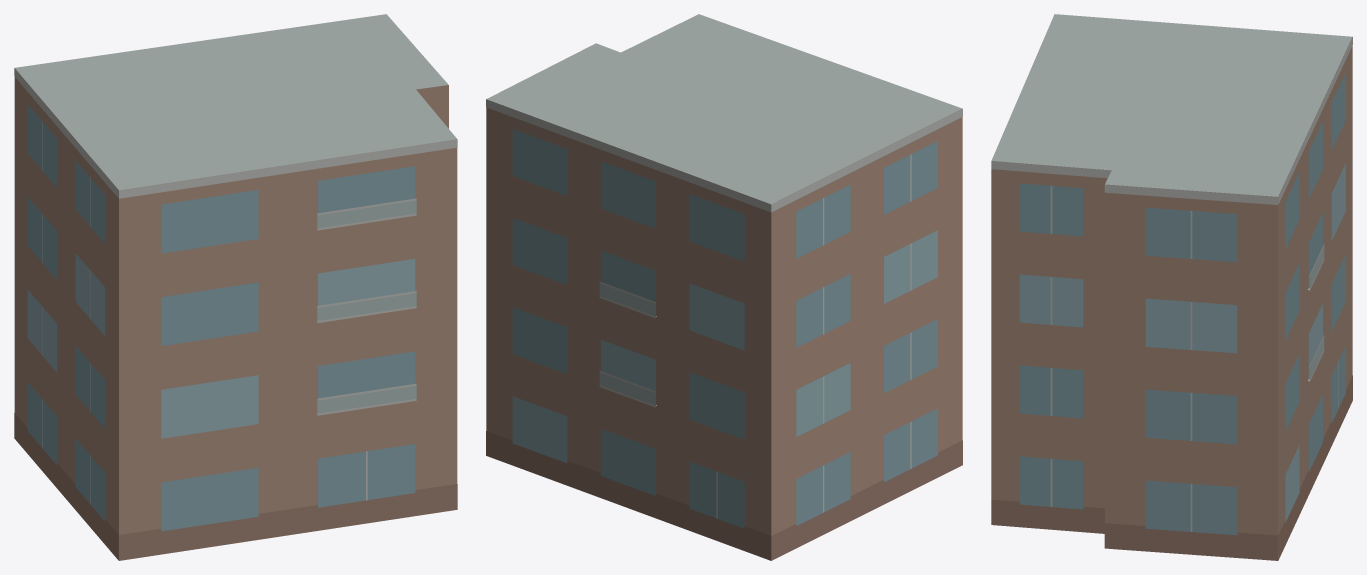
Rendered from survey-upis-32948801.glb.
3 views of the same model, side by side, from view 1: azimuth 30°, elevation 25°; view 2: azimuth 150°, elevation 25°; view 3: azimuth 270°, elevation 25° (orthographic). The views are drawn at different scales.
Visible parts, largest first — view 1: survey-upis-32948801.tmp; view 2: survey-upis-32948801.tmp; view 3: survey-upis-32948801.tmp.
Part boxes in pixels (<box>): survey-upis-32948801.tmp: <box>14,14,457,560</box>; survey-upis-32948801.tmp: <box>486,14,962,560</box>; survey-upis-32948801.tmp: <box>991,14,1352,560</box>.
Size of the model in its own units: 11.6 by 10.76 by 9.69.
